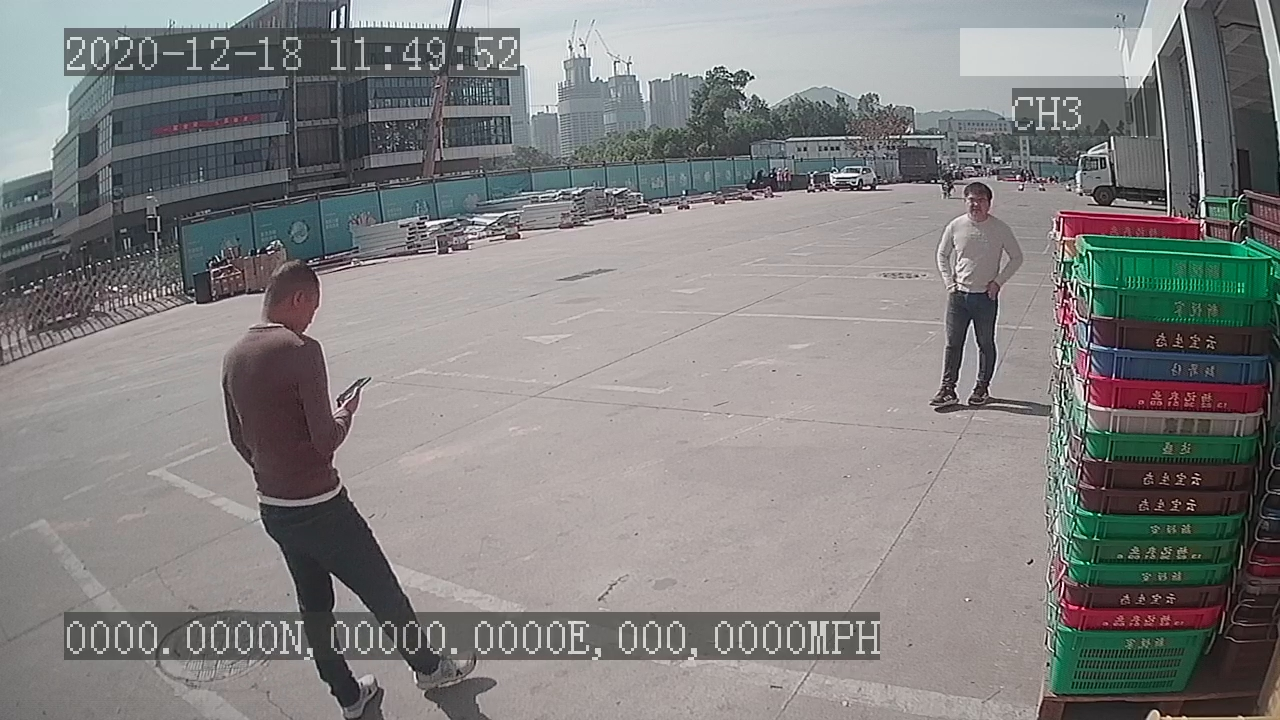person: (922, 179, 1027, 411)
